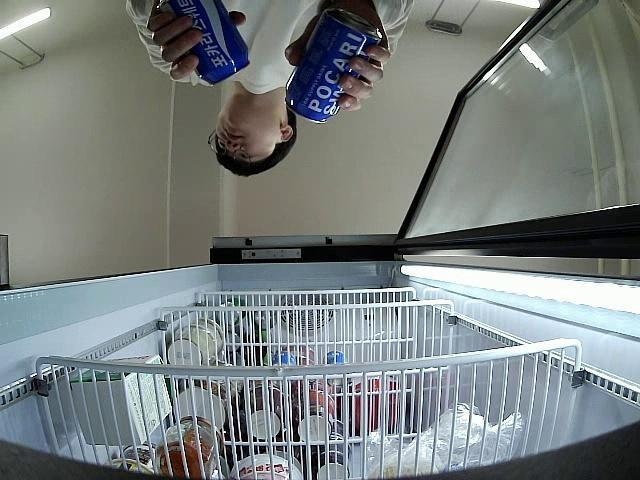13_pocariSweat: (284, 8, 381, 124), (162, 0, 250, 87)
